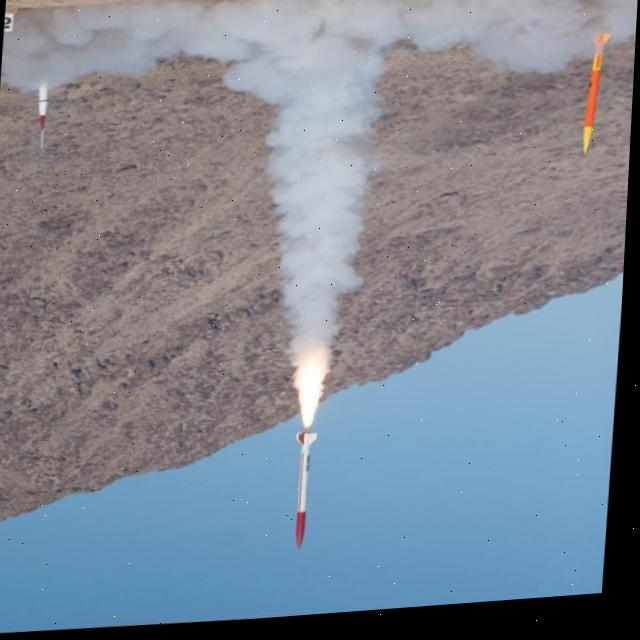missile: (290, 425, 335, 557)
